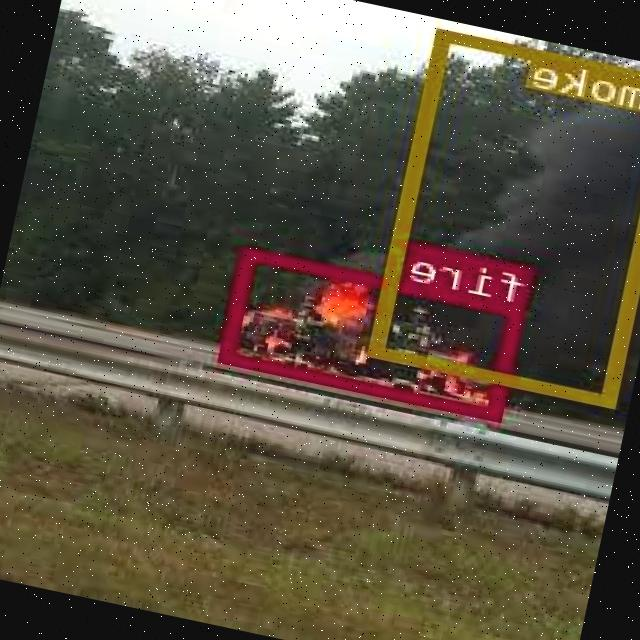fire: (221, 246, 529, 418)
smoke: (371, 26, 640, 405)
